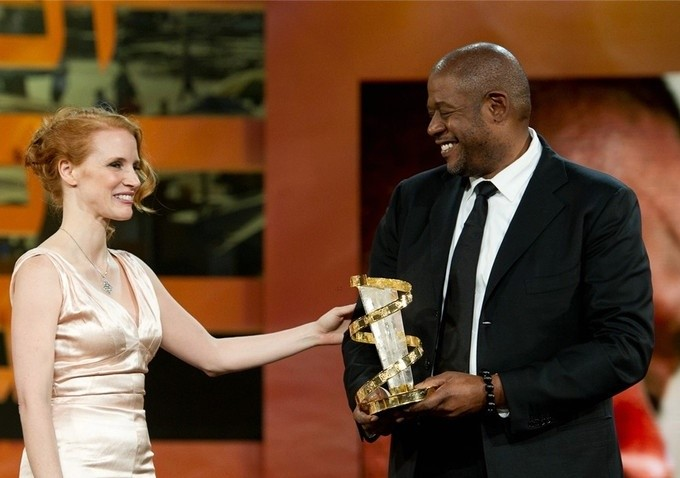face_no_mask: (427, 42, 531, 172), (27, 105, 142, 221)
